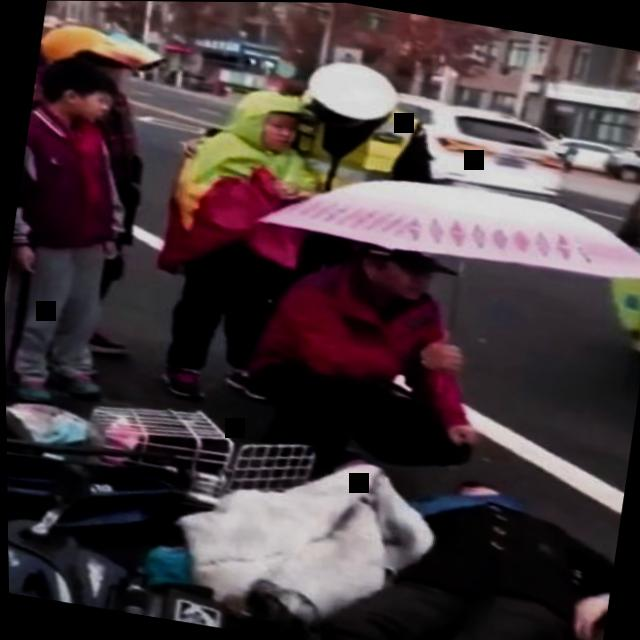Fall-Detected: (306, 433, 626, 640)
